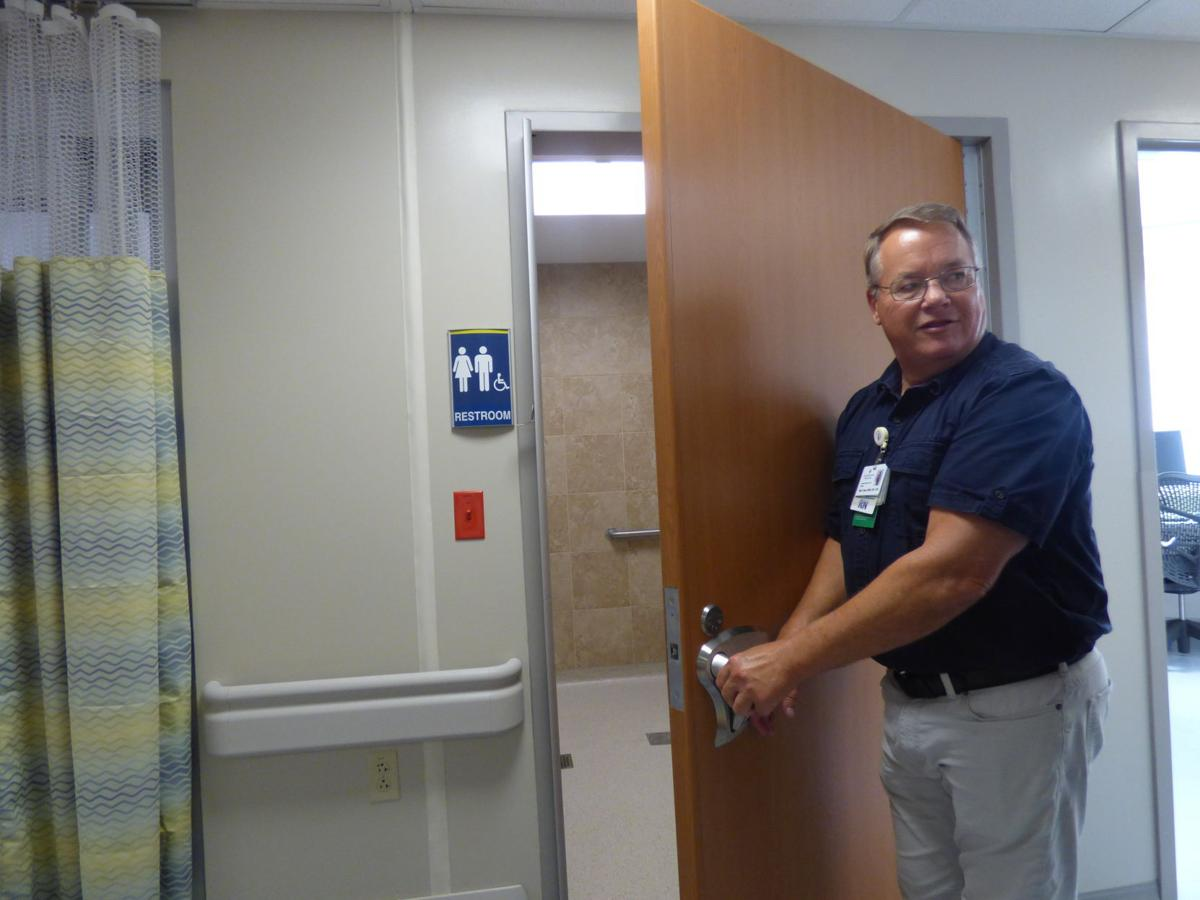chair: (1149, 471, 1198, 656)
curtain: (1, 1, 200, 900)
door_handle: (685, 631, 767, 747)
hallway_assist_bar: (210, 662, 522, 784)
restroom_assist_bar: (605, 526, 661, 545)
staff: (716, 205, 1114, 900)
